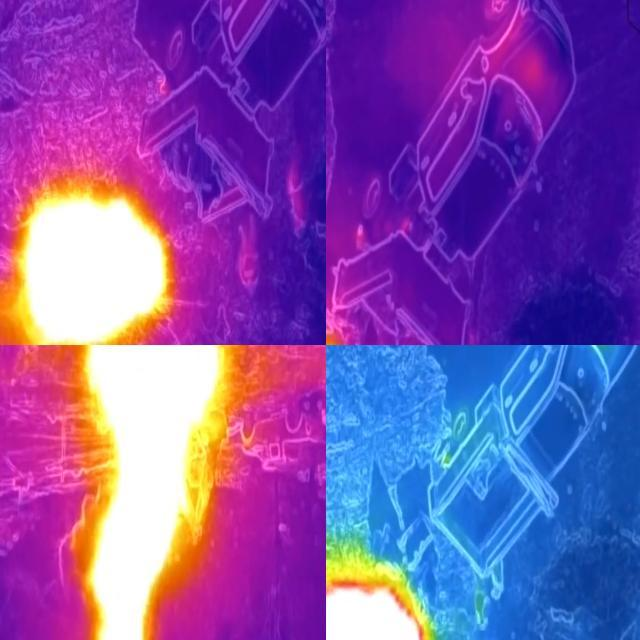fire: (85, 346, 222, 640), (8, 180, 173, 346), (327, 560, 432, 640)
